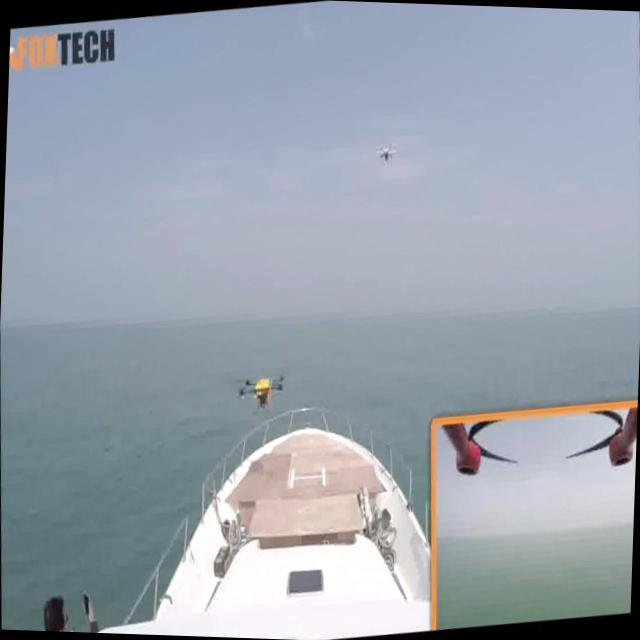drone: (232, 362, 291, 422), (372, 136, 401, 170)
